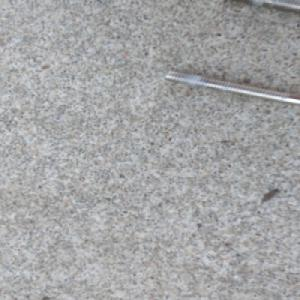ClampPart: (160, 0, 300, 106)
